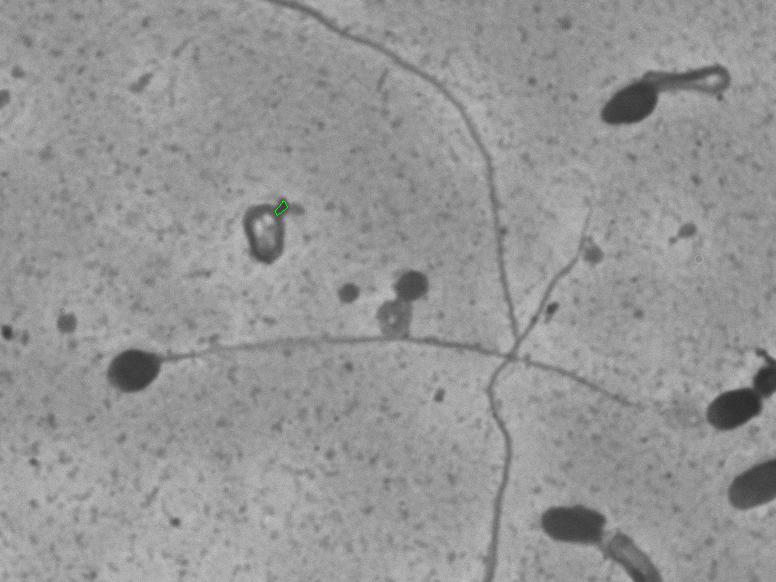Abnormal: (92, 284, 484, 450), (566, 26, 746, 157)
